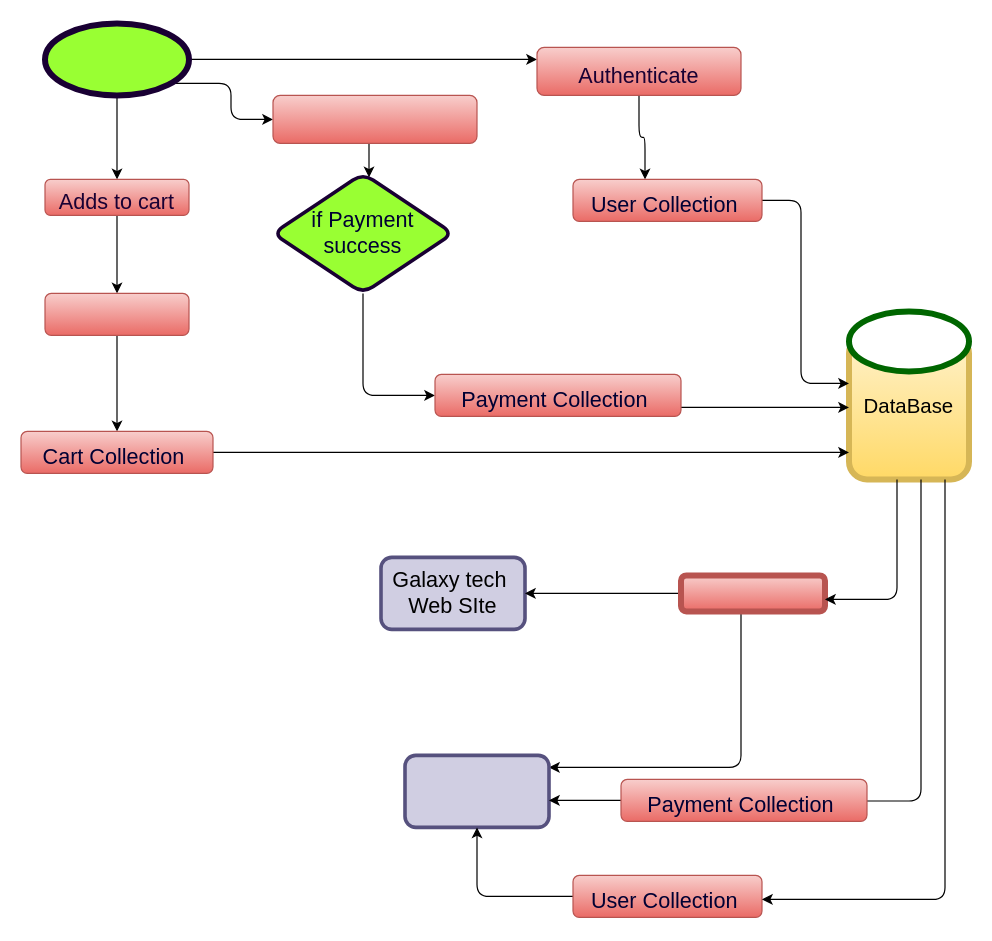
The diagram is 992 pixels wide and 941 high, and some of its shapes have lost their labels. Here are the shapes that lost their labels. From the top down, the centre of each, then its label:
point 116,59: user
point 374,118: Create Payment
point 116,313: Product Id
point 752,593: Product Data
point 476,791: Admin panel
